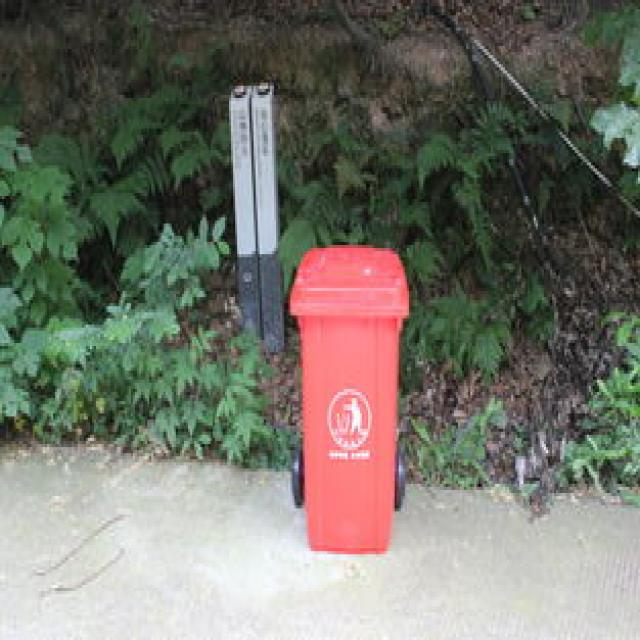garbage_bin: (286, 242, 405, 548)
